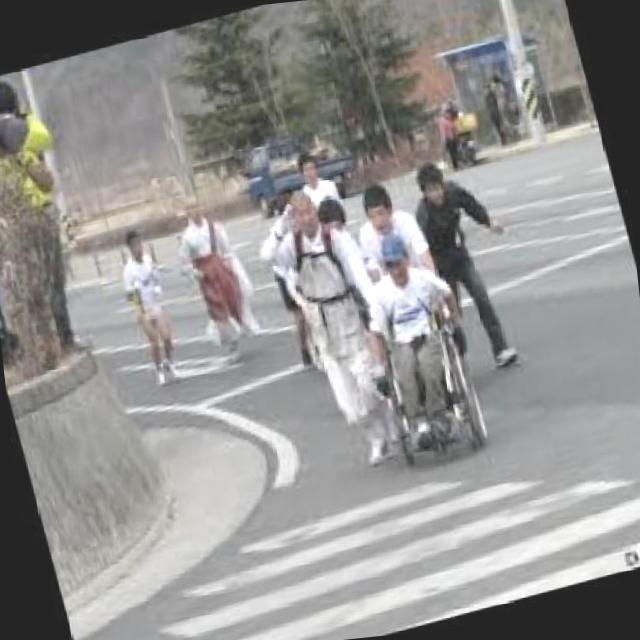Person: (253, 172, 419, 479), (349, 224, 495, 467), (401, 144, 540, 384), (0, 66, 111, 362), (164, 184, 268, 372), (110, 219, 190, 391), (347, 174, 440, 300)
